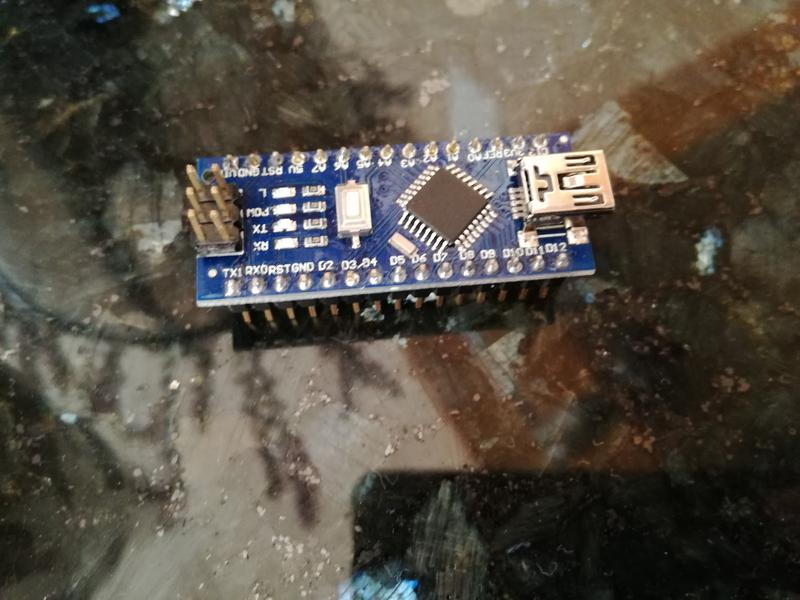Arduino_Nano: (184, 130, 618, 330)
